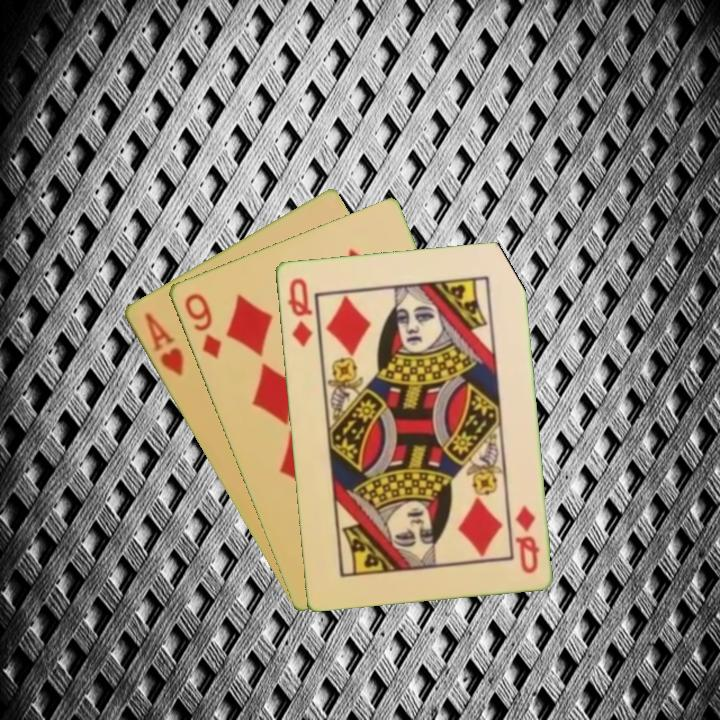9d: (180, 289, 224, 362)
Ah: (140, 308, 186, 379)
Qd: (283, 274, 315, 349), (511, 502, 542, 576)
